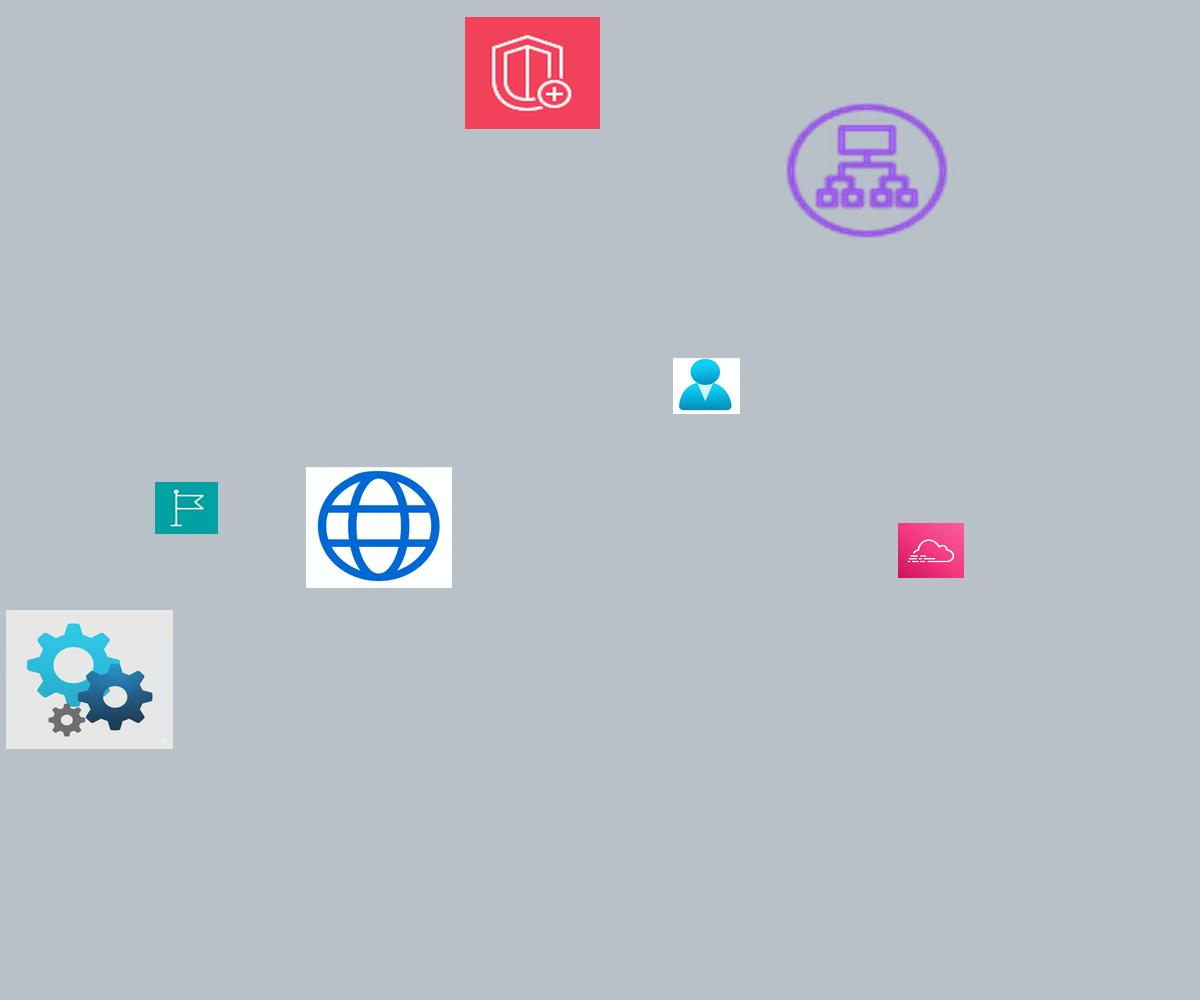AWS-CloudTrail: (898, 523, 964, 578)
AWS-Region: (155, 482, 218, 534)
AWS-Res_Elastic-Load-Balancing_Application-Load-Balancer: (780, 98, 954, 243)
AWS-Shield: (465, 17, 600, 129)
Azure_api: (6, 610, 173, 749)
Azure_http: (306, 467, 452, 588)
Azure_users: (673, 358, 740, 414)
